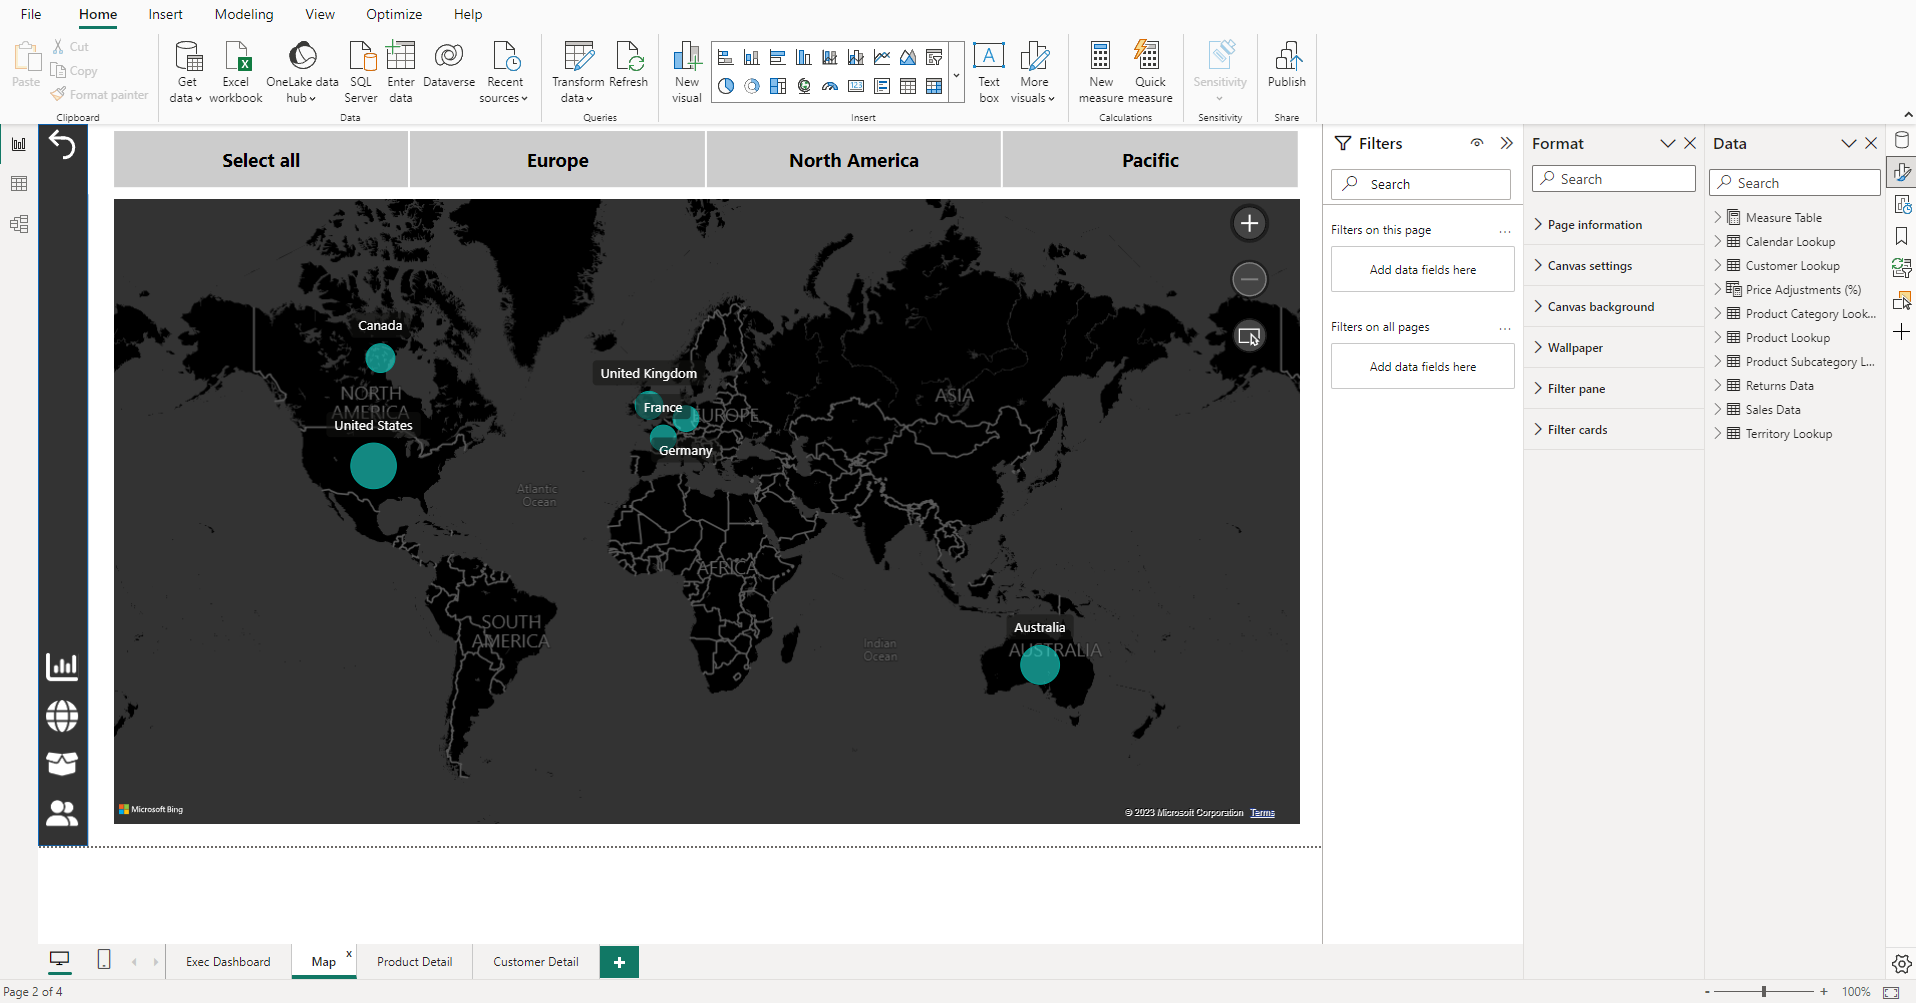

The page's visual inventory and layout, read from the dashboard file:
{"tool":"powerbi","page":{"name":"Map","canvas":[1280,720],"ordinal":2},"visuals":[{"type":"shape","title":"Left Nav BG","box":[0,0,50,720],"z":0},{"type":"map","fields":{"Category":["Territory Lookup.Country"],"Size":["Measure Table.Total Orders"]},"box":[71.2,70.2,1191.5,632.8],"z":1000},{"type":"slicer","fields":{"Values":["Territory Lookup.Continent"]},"box":[50.2,0,1229.8,70.1],"z":2000}]}

Visuals, with their boxes on the page's 1280x720 design canvas (x1, y1, x2, y2). These are canvas units, not pixel positions in the 1916x1003 screenshot, which may show the page scaled, cropped or inside an application window:
"Left Nav BG" shape: {"left": 0, "top": 0, "right": 50, "bottom": 720}
map - Territory Lookup.Country x Measure Table.Total Orders: {"left": 71, "top": 70, "right": 1263, "bottom": 703}
slicer - Territory Lookup.Continent: {"left": 50, "top": 0, "right": 1280, "bottom": 70}
